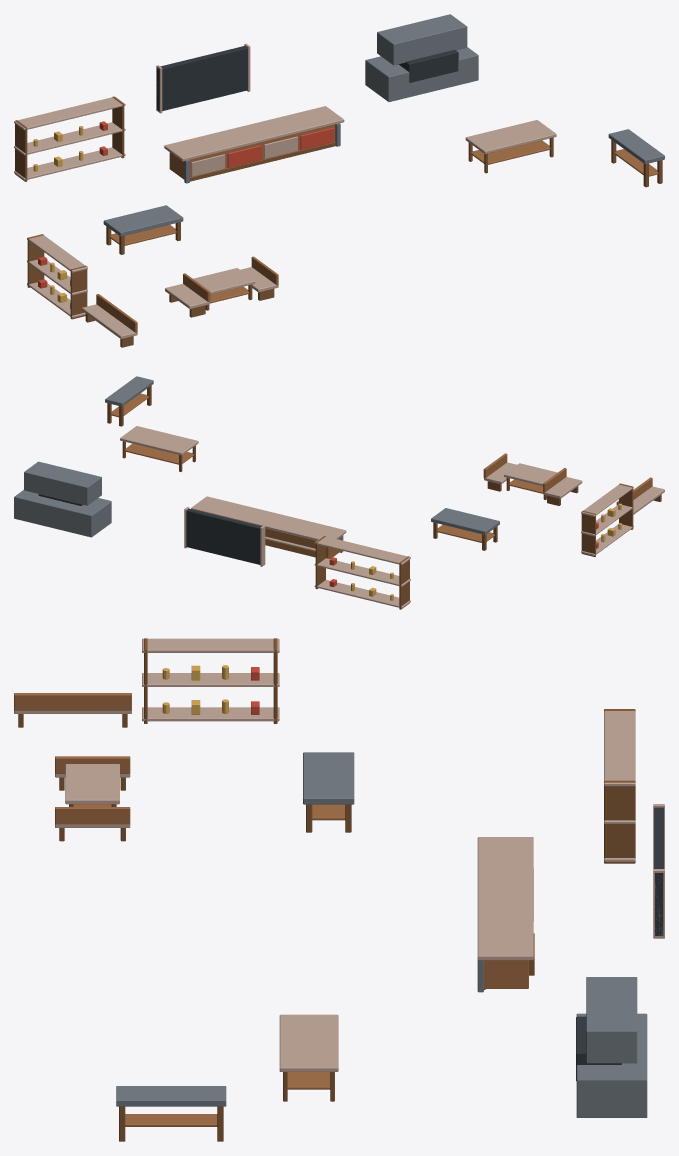
The model's file is redpot_service_kitchen.lod1.glb.
3 views of the same model, one above another, from view 1: azimuth 30°, elevation 25°; view 2: azimuth 150°, elevation 25°; view 3: azimuth 270°, elevation 25° (orthographic). The views are drawn at different scales.
Size of the model in its own units: 25.9 by 2.76 by 16.55.
